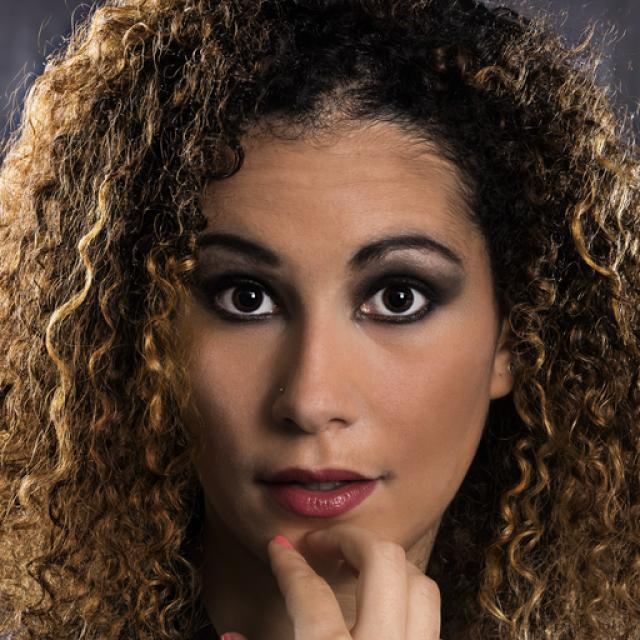surprise: (164, 111, 496, 576)
